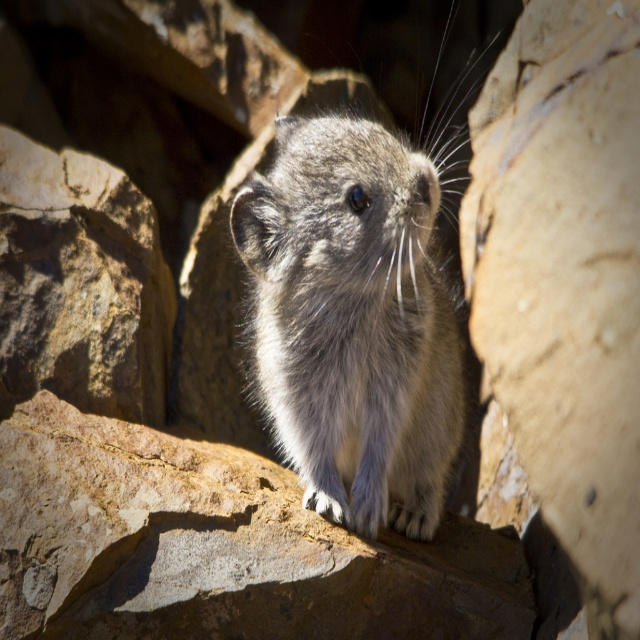Mouse: (232, 0, 504, 542)
